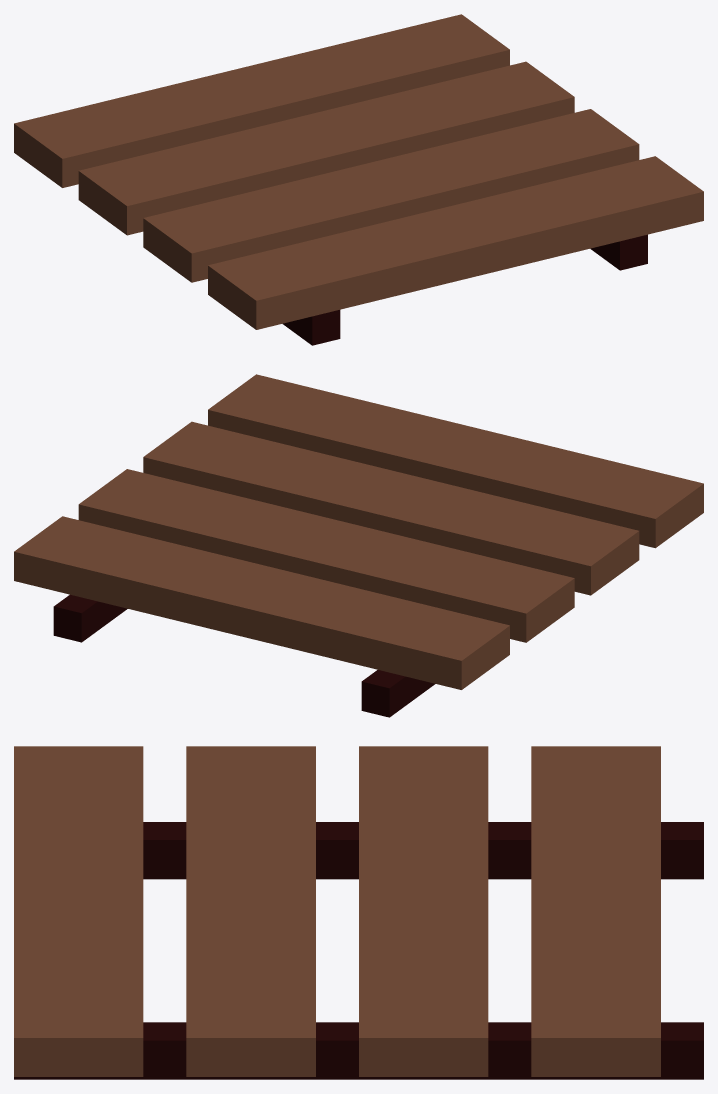
Rendered from Muelle.obj.
The picture shows the model from 3 angles, top to bottom: view 1: azimuth 30°, elevation 25°; view 2: azimuth 150°, elevation 25°; view 3: azimuth 270°, elevation 25°; orthographic projection. The views are drawn at different scales.
Size of the model in its own units: 1.6 by 0.2 by 1.6.
Materials: 1 (1 with a texture image).
